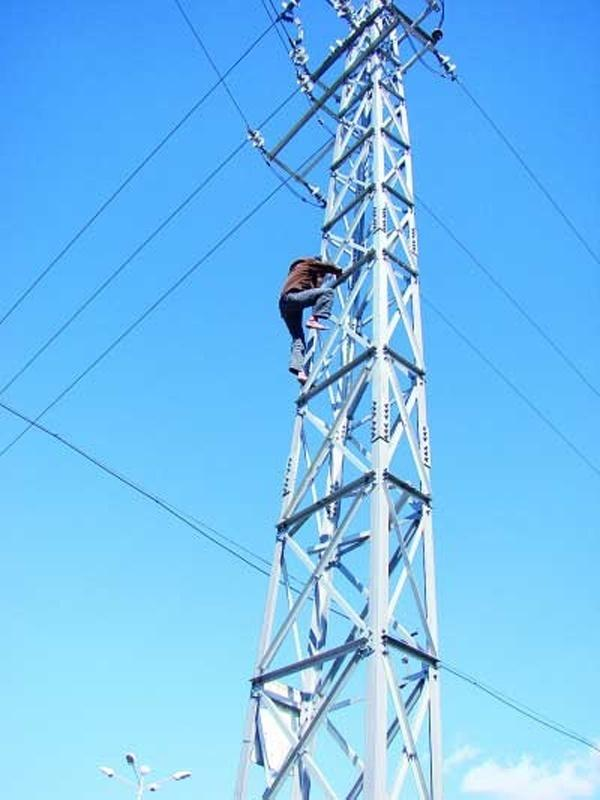power_tower: (250, 32, 455, 789)
